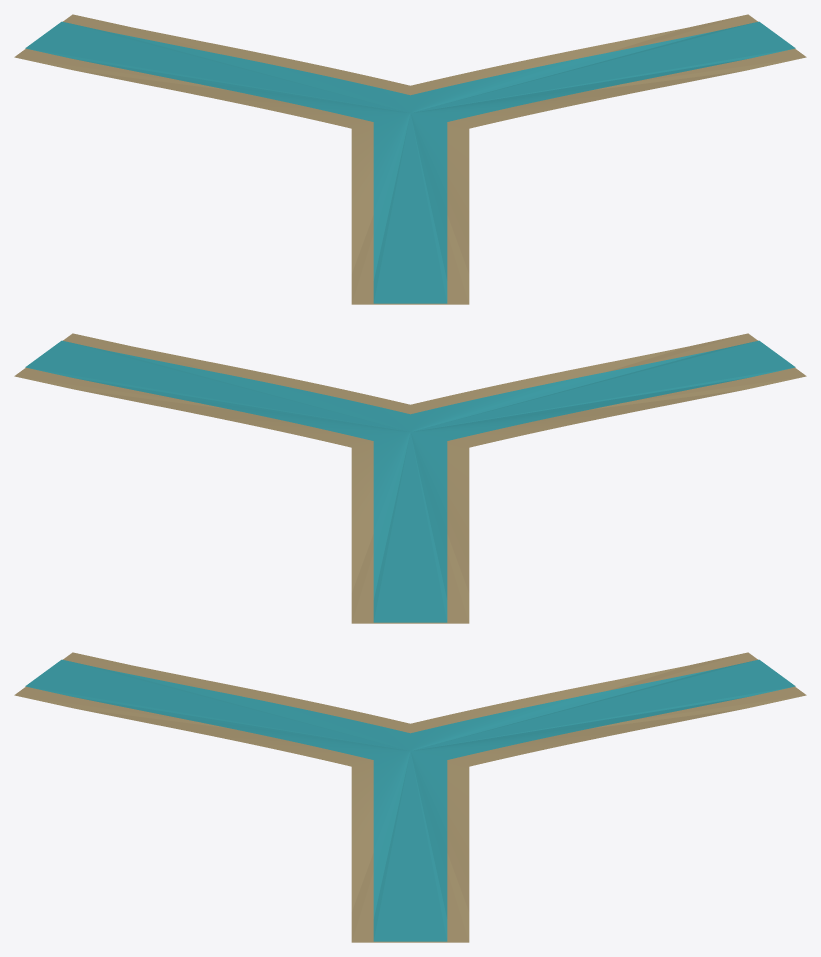
Rendered from RIVER_21.fbx.
The picture shows the model from 3 angles, top to bottom: view 1: azimuth 30°, elevation 25°; view 2: azimuth 150°, elevation 25°; view 3: azimuth 270°, elevation 25°; orthographic projection.
Parts seen in each view (by area): view 1: Channel_surface.017, Channel_surface.016; view 2: Channel_surface.017, Channel_surface.016; view 3: Channel_surface.017, Channel_surface.016.
Boxes of the visible parts, left/top/right/bottom form: Channel_surface.017: left=25, top=21, right=795, bottom=303; Channel_surface.016: left=14, top=14, right=806, bottom=304; Channel_surface.017: left=25, top=340, right=795, bottom=622; Channel_surface.016: left=14, top=333, right=806, bottom=623; Channel_surface.017: left=25, top=659, right=795, bottom=941; Channel_surface.016: left=14, top=652, right=806, bottom=942.
Size of the model in its own units: 140 by 2.8 by 162.
